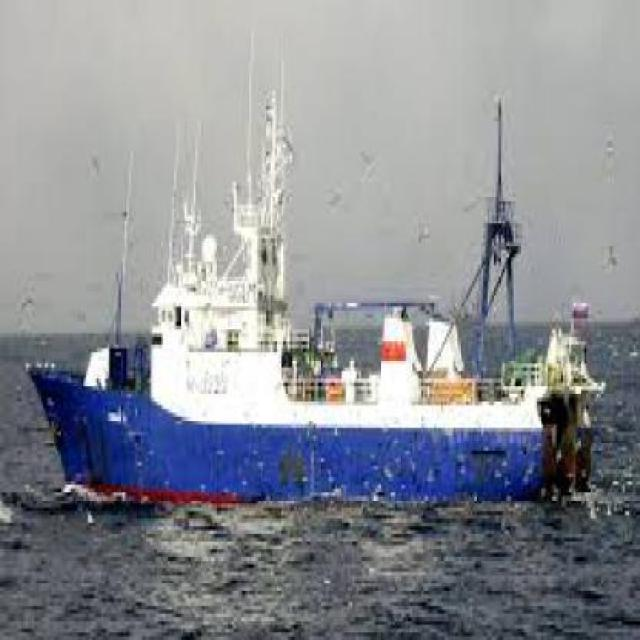fish-b: (16, 20, 617, 524)
